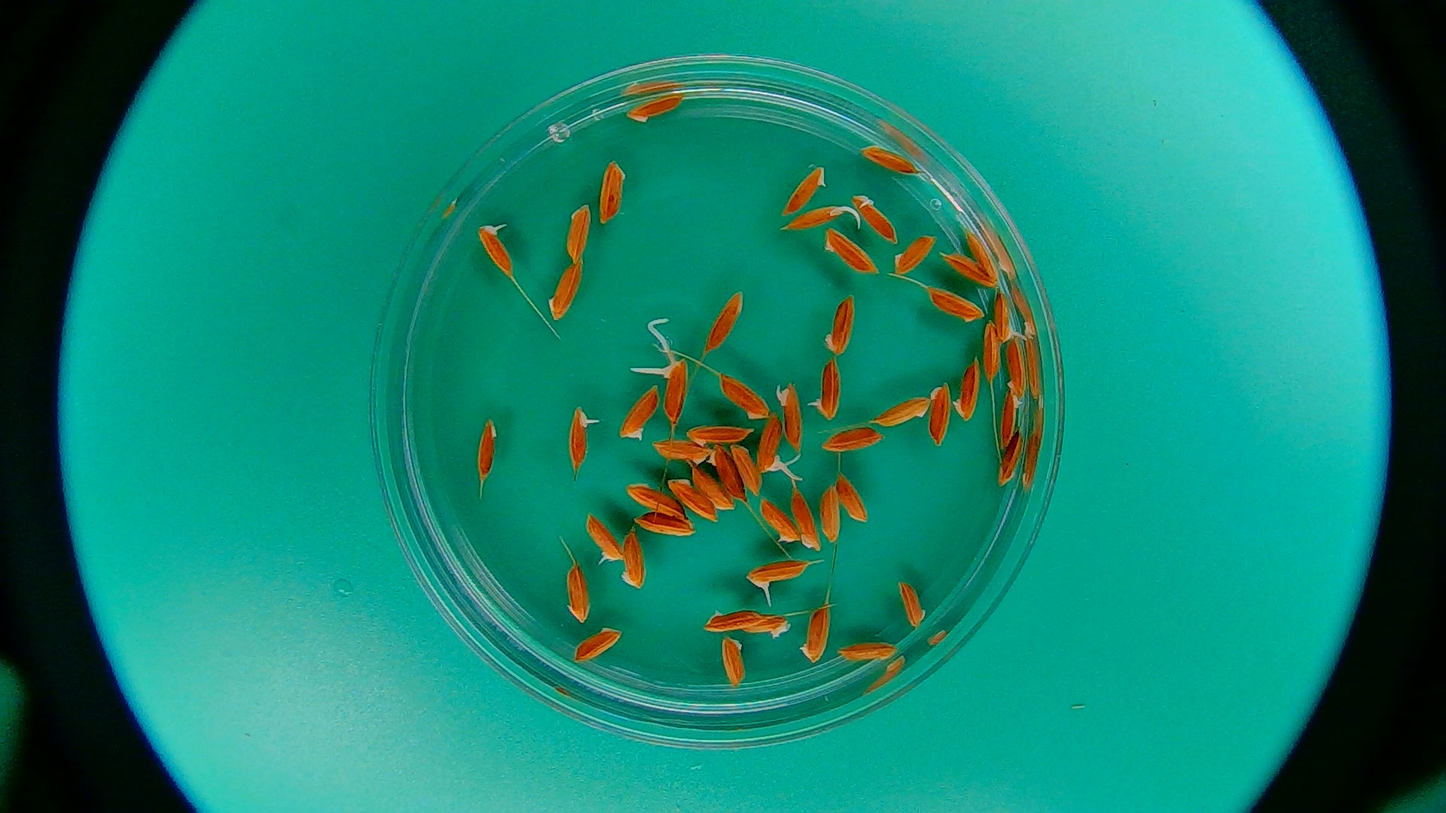no: (620, 478, 691, 525), (712, 363, 770, 420), (557, 194, 601, 267), (815, 290, 860, 358), (849, 192, 901, 249), (613, 382, 660, 443), (667, 475, 724, 525), (779, 161, 828, 219), (703, 441, 747, 505), (686, 461, 736, 516), (714, 631, 755, 696), (825, 222, 876, 273), (837, 638, 902, 678), (823, 415, 889, 454), (789, 486, 826, 553), (960, 224, 1002, 283), (628, 508, 699, 542), (816, 481, 850, 552), (892, 569, 929, 634), (549, 261, 588, 322), (833, 467, 870, 531), (928, 285, 987, 325), (935, 253, 1002, 288), (685, 419, 759, 450), (995, 423, 1029, 490), (594, 157, 630, 220), (865, 393, 931, 427), (649, 437, 715, 471), (758, 493, 801, 545), (697, 601, 769, 632), (708, 293, 746, 351), (891, 232, 938, 277), (800, 602, 835, 662), (953, 356, 981, 427), (624, 90, 684, 123), (563, 563, 593, 628), (927, 379, 954, 450), (996, 390, 1023, 461), (1002, 332, 1029, 403), (981, 318, 1008, 388), (572, 623, 621, 661), (728, 440, 759, 497), (859, 147, 917, 176), (471, 416, 499, 474), (734, 611, 791, 638), (619, 528, 645, 587)
yes: (474, 224, 517, 274), (659, 356, 691, 423), (808, 357, 840, 423), (584, 513, 625, 562), (755, 413, 788, 473), (779, 383, 805, 452), (566, 408, 596, 467), (749, 559, 810, 586), (789, 209, 848, 236), (993, 291, 1020, 346)
